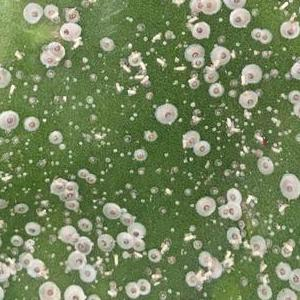Femea: (282, 175, 298, 196), (156, 107, 175, 122), (41, 283, 57, 298), (195, 207, 213, 220), (243, 66, 258, 81), (242, 8, 256, 24), (24, 4, 38, 19), (0, 112, 15, 126), (213, 48, 227, 63), (240, 92, 255, 106), (59, 26, 78, 37), (203, 0, 217, 14), (281, 24, 296, 37), (30, 264, 44, 277), (258, 160, 270, 175), (25, 223, 40, 235), (67, 286, 80, 299), (193, 129, 203, 145), (185, 47, 201, 57), (103, 205, 116, 217), (100, 37, 112, 50), (67, 9, 79, 22), (193, 26, 207, 37), (257, 288, 271, 299), (131, 224, 143, 236), (98, 236, 110, 248), (203, 140, 214, 153), (228, 228, 239, 241), (23, 119, 37, 129), (228, 204, 238, 218), (253, 237, 263, 251), (291, 62, 299, 79), (292, 269, 299, 288), (69, 255, 81, 266), (123, 287, 134, 299), (119, 235, 130, 247), (131, 237, 142, 249), (48, 50, 58, 63), (47, 51, 60, 61), (82, 267, 92, 280), (276, 265, 286, 278), (135, 282, 144, 296), (63, 180, 74, 191), (79, 219, 90, 230), (45, 5, 55, 17), (218, 206, 228, 218), (51, 180, 63, 190), (122, 214, 132, 226), (228, 189, 236, 203), (50, 132, 60, 143), (209, 86, 220, 96), (21, 256, 31, 267), (65, 201, 78, 209), (129, 55, 139, 65), (226, 0, 242, 6), (253, 28, 261, 39), (206, 70, 214, 81), (14, 206, 26, 213), (134, 150, 144, 158), (193, 58, 203, 66), (262, 31, 269, 42), (290, 91, 298, 100), (77, 169, 87, 176), (67, 193, 78, 199), (190, 80, 198, 88), (148, 251, 156, 259), (87, 175, 94, 182)
Linfa: (41, 215, 56, 231), (70, 94, 82, 109), (277, 126, 291, 138), (17, 185, 31, 195), (84, 95, 94, 109), (98, 187, 105, 206), (271, 117, 282, 129), (65, 119, 78, 129), (40, 170, 50, 182), (263, 211, 272, 224), (91, 187, 96, 210), (97, 124, 111, 132), (112, 187, 124, 195), (180, 155, 193, 162), (67, 149, 73, 164), (135, 167, 146, 175), (100, 224, 109, 233), (192, 180, 200, 190), (201, 120, 209, 130), (215, 144, 225, 152), (57, 140, 65, 150), (274, 224, 287, 230), (264, 104, 272, 113), (40, 107, 49, 115), (239, 133, 245, 145), (129, 189, 137, 197), (270, 106, 278, 114), (96, 216, 103, 225), (209, 123, 215, 133), (127, 114, 134, 122), (238, 162, 245, 170), (93, 86, 100, 94), (215, 119, 221, 128), (128, 166, 133, 176), (103, 156, 110, 163), (125, 148, 131, 156), (168, 226, 174, 234), (162, 151, 170, 157), (106, 163, 114, 169), (139, 196, 144, 205), (98, 177, 107, 182), (99, 169, 105, 176), (173, 199, 179, 206), (77, 140, 84, 146), (214, 134, 220, 141), (181, 263, 187, 270), (233, 141, 239, 148), (174, 210, 180, 217), (202, 291, 208, 298), (287, 226, 293, 233), (119, 152, 125, 158), (203, 221, 209, 227), (210, 218, 216, 224), (40, 117, 47, 122), (37, 146, 44, 151), (111, 147, 116, 153), (131, 111, 136, 117), (121, 197, 127, 202), (268, 231, 274, 236), (189, 202, 193, 209), (48, 150, 53, 155)
Macho: (180, 233, 198, 241), (277, 201, 287, 214), (111, 252, 119, 268), (0, 174, 16, 182), (245, 194, 253, 207), (150, 271, 163, 279), (272, 143, 286, 150), (163, 187, 172, 197), (241, 144, 250, 154), (7, 83, 15, 94), (151, 279, 162, 287), (114, 81, 121, 93), (164, 241, 171, 253), (126, 95, 134, 105), (132, 251, 142, 258), (181, 137, 187, 148), (120, 66, 126, 77), (225, 115, 231, 126), (154, 60, 159, 73), (285, 0, 290, 12), (147, 73, 152, 84), (137, 61, 142, 72), (216, 58, 222, 66), (173, 66, 185, 70), (196, 14, 200, 26), (62, 93, 68, 101), (134, 75, 145, 79)
